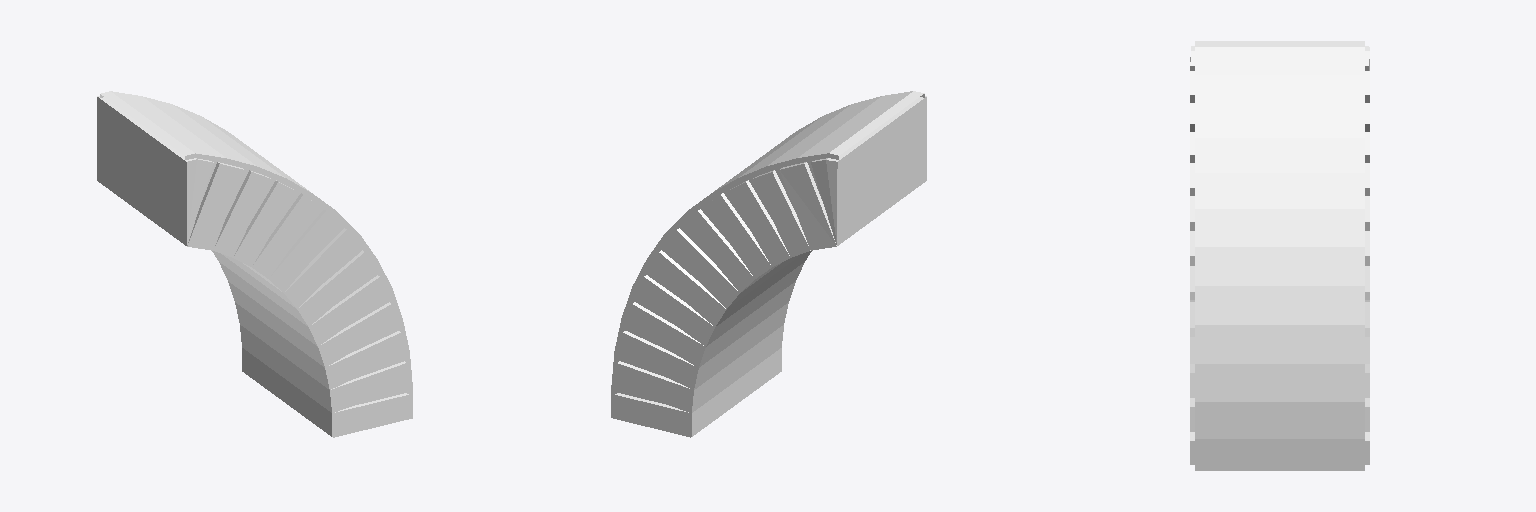
The model's file is lime_mortar_orange_clay_brick_gothic_arch_2.obj.
The picture shows the model from 3 angles: view 1: azimuth 30°, elevation 25°; view 2: azimuth 150°, elevation 25°; view 3: azimuth 270°, elevation 25°; orthographic projection.
Parts seen in each view (by area): view 1: cube.004, cube.023; view 2: cube.004, cube.023; view 3: cube.023, cube.004.
Boxes of the visible parts, x1,y1,x2,y2 form: cube.004: [97, 96, 408, 436]; cube.023: [100, 91, 412, 437]; cube.004: [615, 96, 926, 436]; cube.023: [611, 91, 924, 437]; cube.023: [1195, 41, 1364, 470]; cube.004: [1190, 46, 1369, 464].
Size of the model in its own units: 1.56 by 2.08 by 1.07.